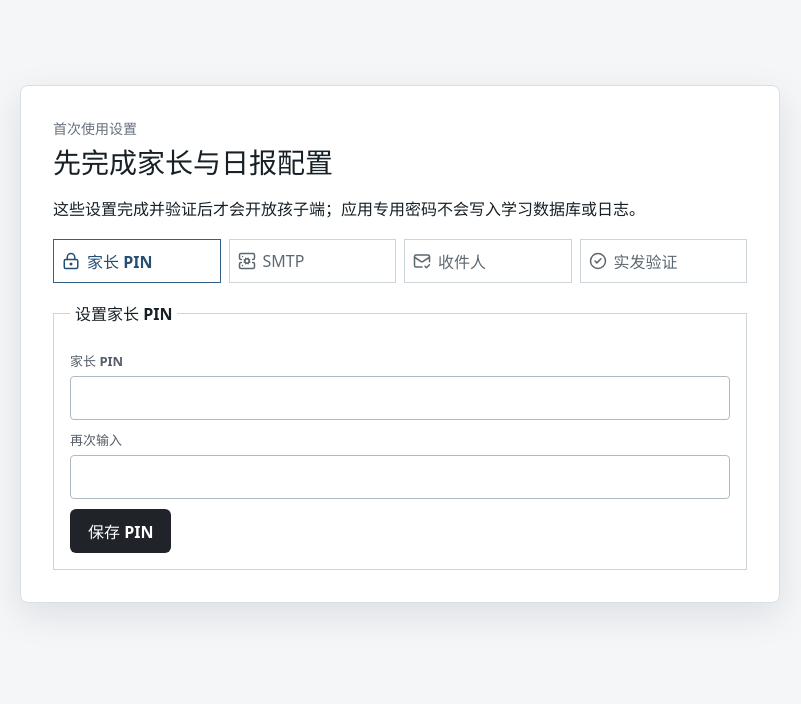
Test case: requires a new explicit password after 初始化SMTP主机 changes and never sends the old protected secret
Type "2468" into the password field named "初始化家长PIN" at [400, 398], box x1=70 y1=376 x2=730 y2=420
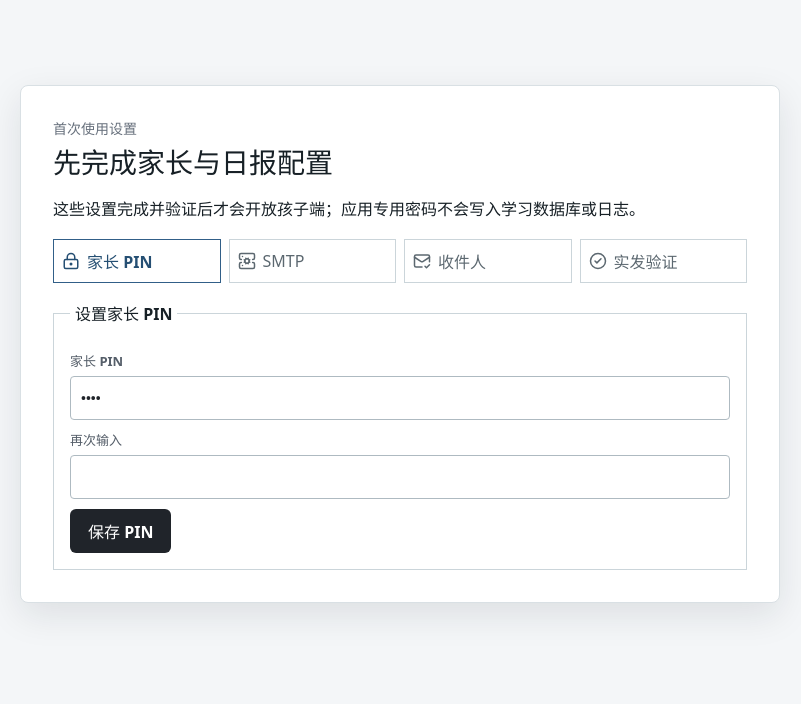
Type "2468" into the password field named "再次输入家长PIN" at [400, 477], box x1=70 y1=455 x2=730 y2=499
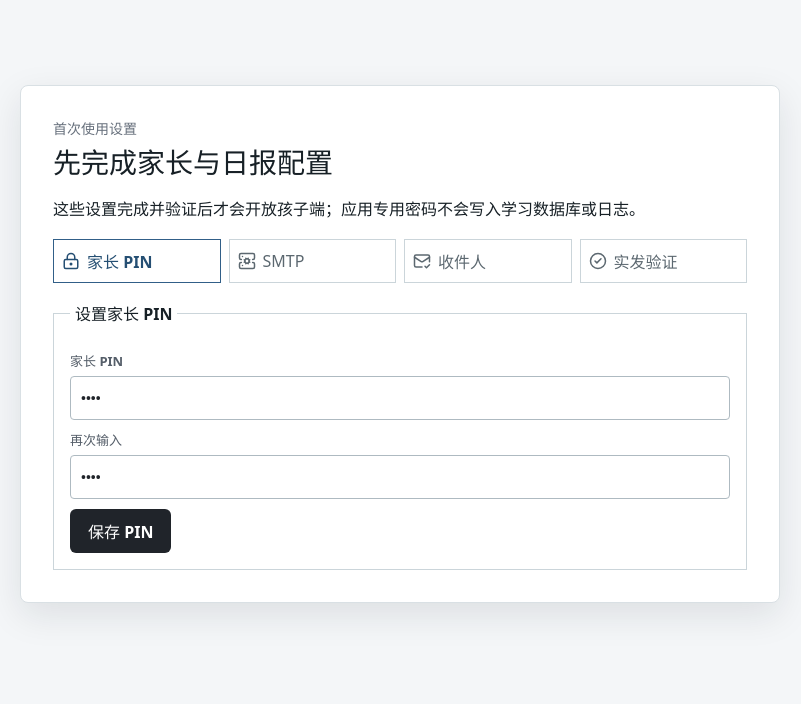
Click the button "保存 PIN" at [121, 531], box x1=70 y1=509 x2=172 y2=553
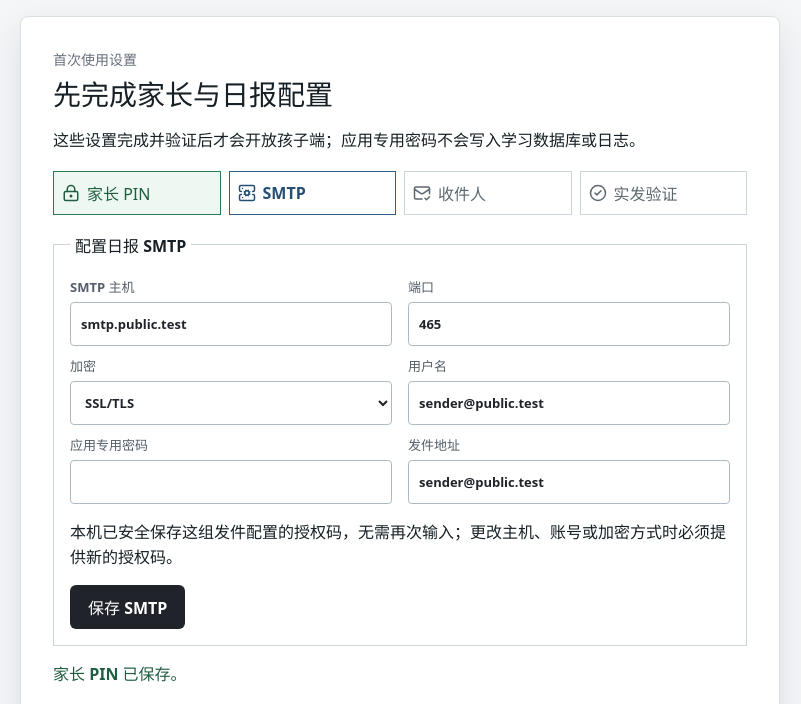
Result: the field named "初始化SMTP主机" is shown
Result: the field named "初始化SMTP主机" holds "smtp.public.test"
Replace the text in the field named "初始化SMTP主机" with "smtp.other.test" at [231, 324], box x1=70 y1=302 x2=392 y2=346
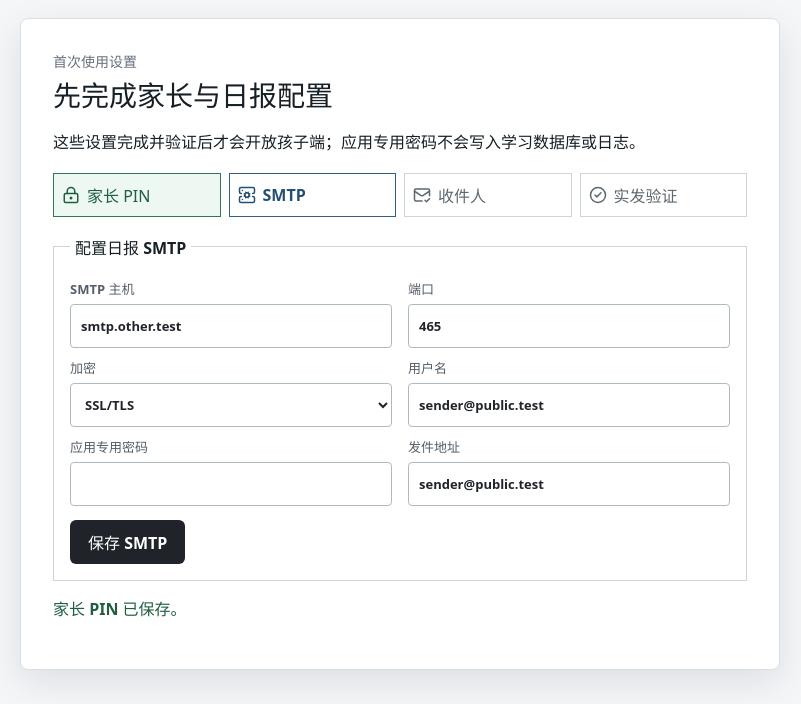
Click the button "保存 SMTP" at [128, 542], box x1=70 y1=520 x2=185 y2=564
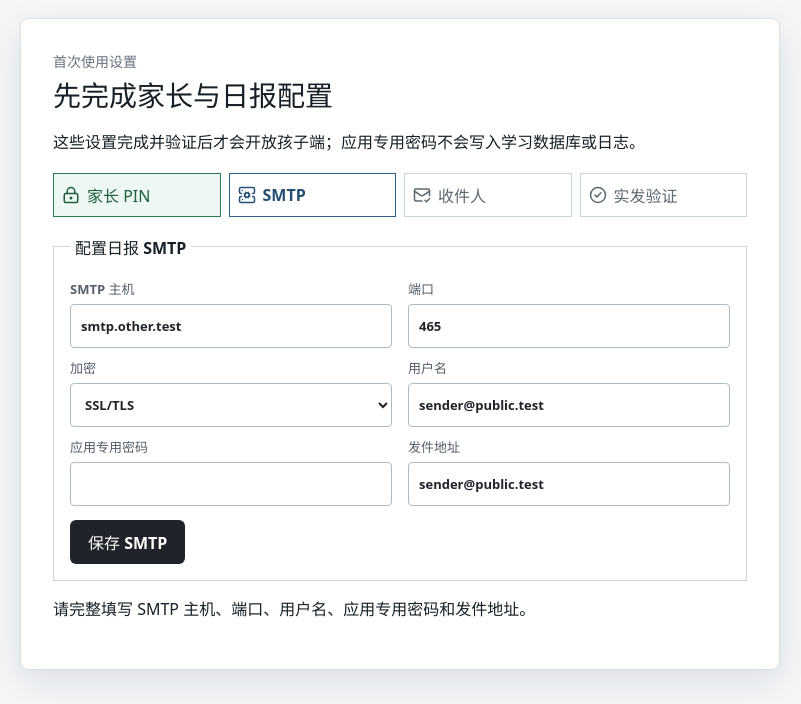
Result: the message shows "请完整填写" at x1=53 y1=598 x2=535 y2=620
